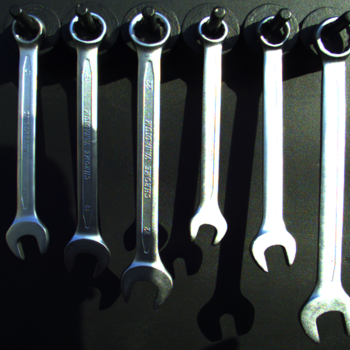bottom: (298, 288, 350, 344), (116, 261, 174, 309), (61, 232, 112, 284), (248, 225, 298, 273), (5, 216, 50, 261), (185, 205, 230, 245)
top: (126, 8, 173, 52), (313, 12, 350, 64), (66, 10, 109, 48), (9, 12, 48, 48), (256, 13, 292, 51), (196, 13, 230, 48)
